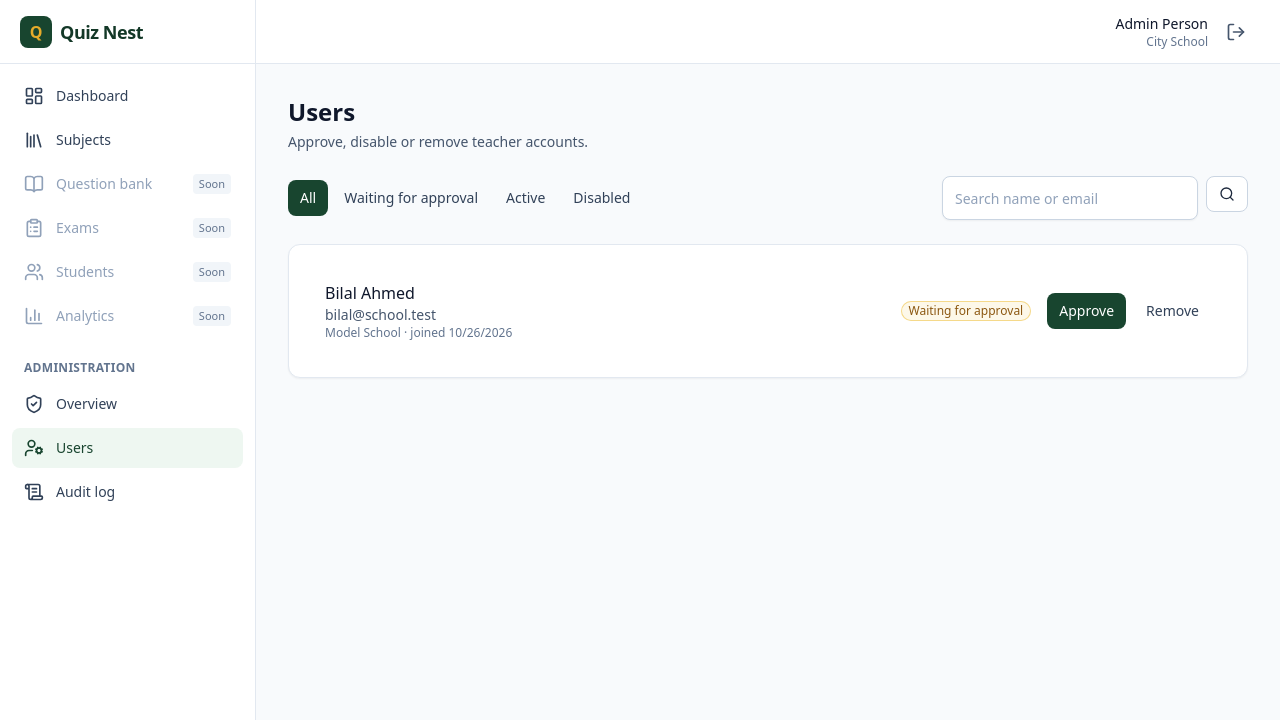
Test: Admin users page › lets an admin approve a waiting teacher
Check: the text "Waiting for approval" is shown, box 900,301 -> 1031,321
Click the button "Approve".
click(1087, 311)  # box 1047,293 -> 1126,329
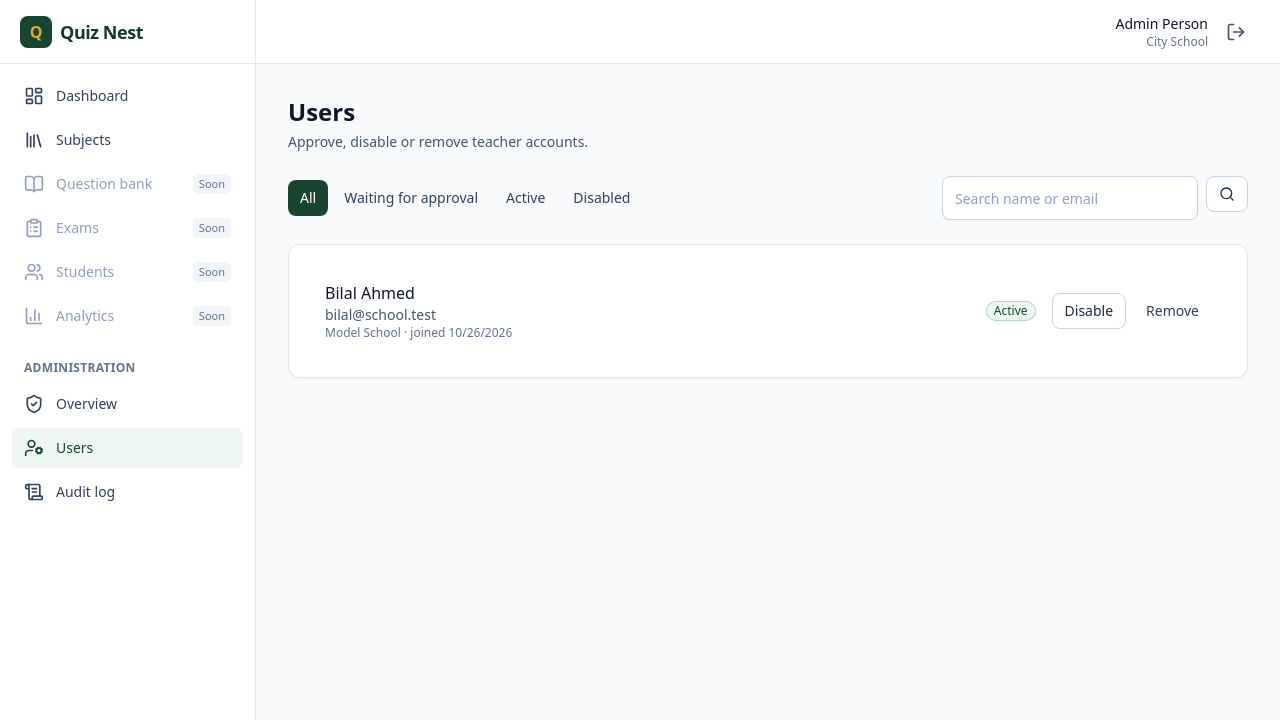
Check: the text "Active" is shown, box 986,301 -> 1036,321
